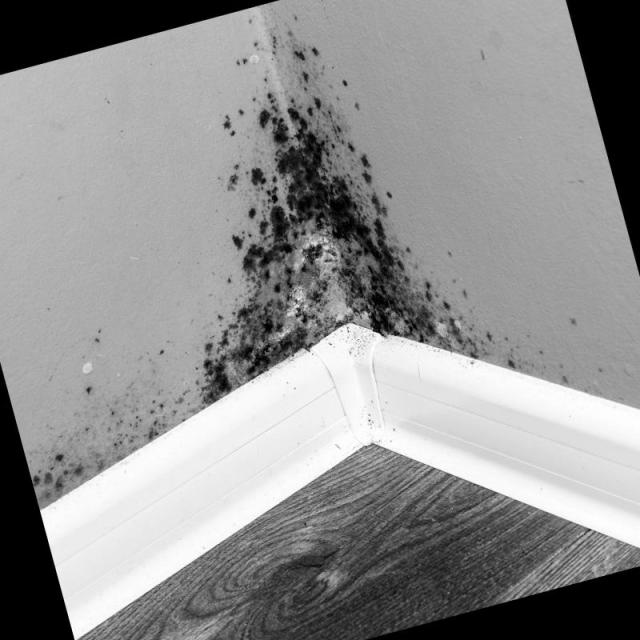stain marks: (32, 26, 510, 506)
